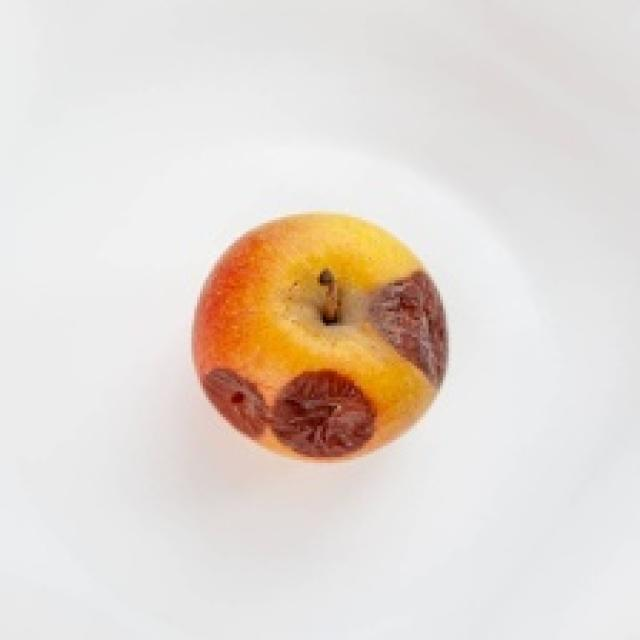rotten_apple: (192, 219, 448, 457)
